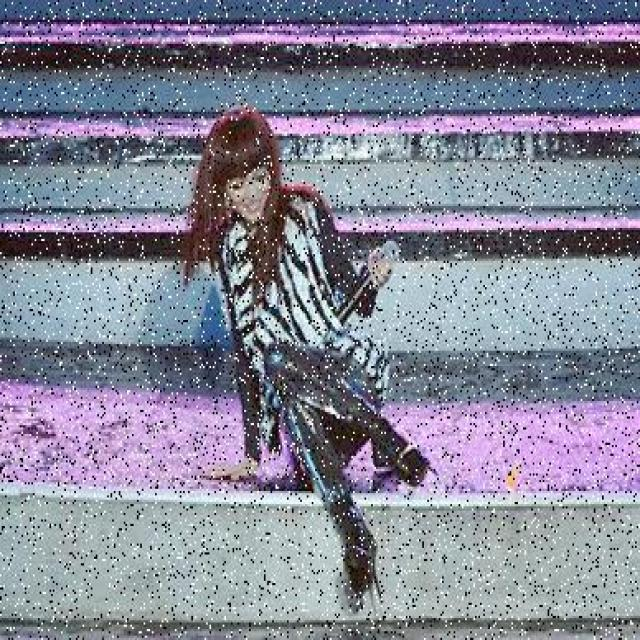fall: (198, 136, 398, 564)
